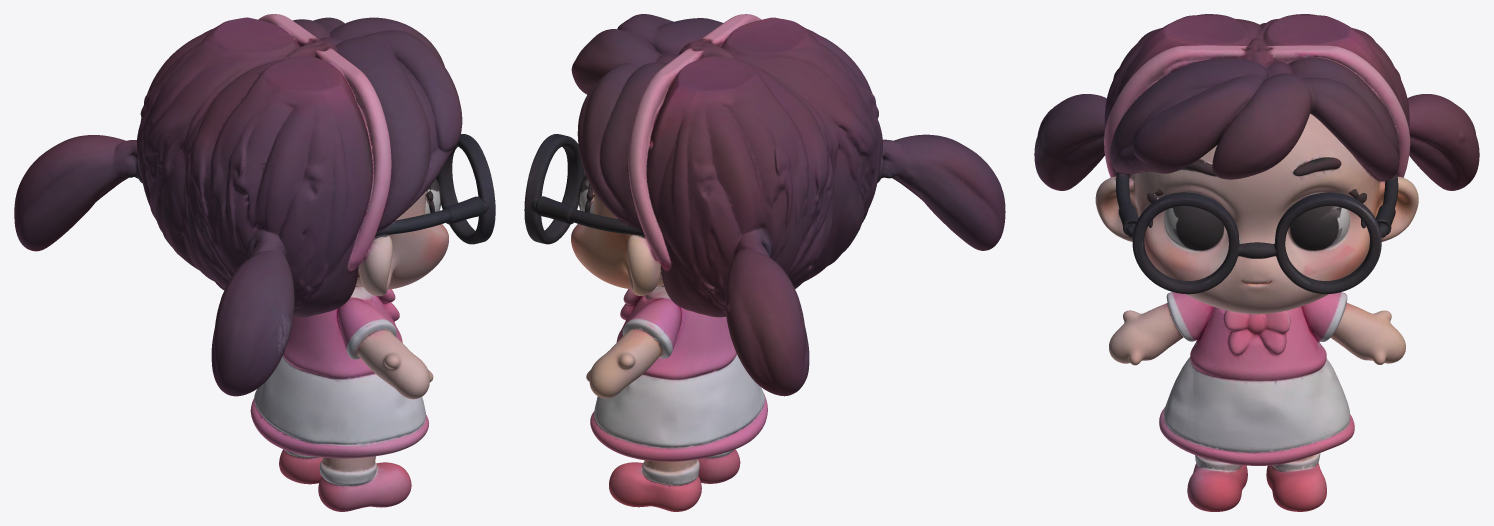
File: character-girl-glasses.glb
3 views of the same model, side by side, from view 1: azimuth 30°, elevation 25°; view 2: azimuth 150°, elevation 25°; view 3: azimuth 270°, elevation 25° (orthographic). The views are drawn at different scales.
Parts seen in each view (by area): view 1: tripo_node_b87640b8-6020-470d-af76-feb04f590b6b; view 2: tripo_node_b87640b8-6020-470d-af76-feb04f590b6b; view 3: tripo_node_b87640b8-6020-470d-af76-feb04f590b6b.
Part boxes in pixels (x1,y1,x2,y2): tripo_node_b87640b8-6020-470d-af76-feb04f590b6b: [14, 14, 495, 511]; tripo_node_b87640b8-6020-470d-af76-feb04f590b6b: [524, 14, 1005, 511]; tripo_node_b87640b8-6020-470d-af76-feb04f590b6b: [1034, 14, 1479, 511].
Bounding box in the file's own units: 0.759 × 1 × 0.9278.
1 material, 1 textured.
